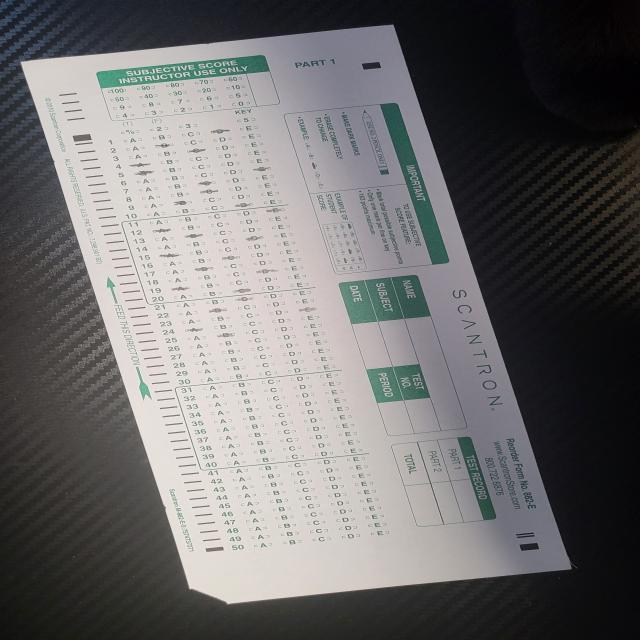scantron: (19, 24, 573, 603)
